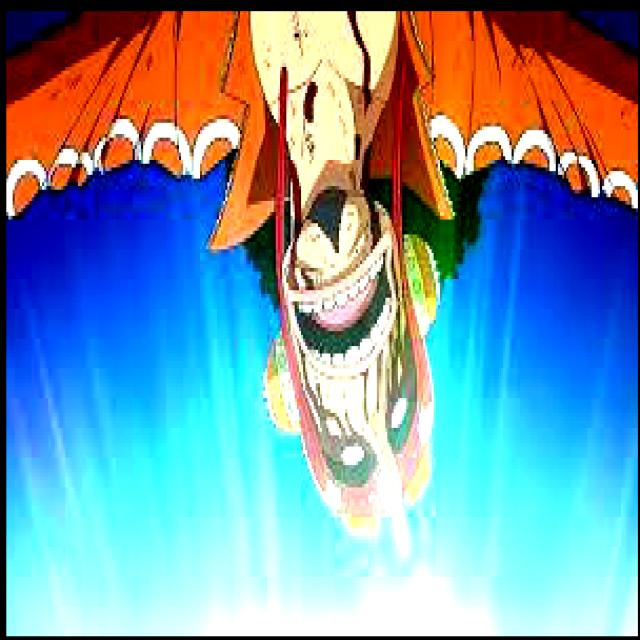Usopp: (8, 11, 640, 558)
